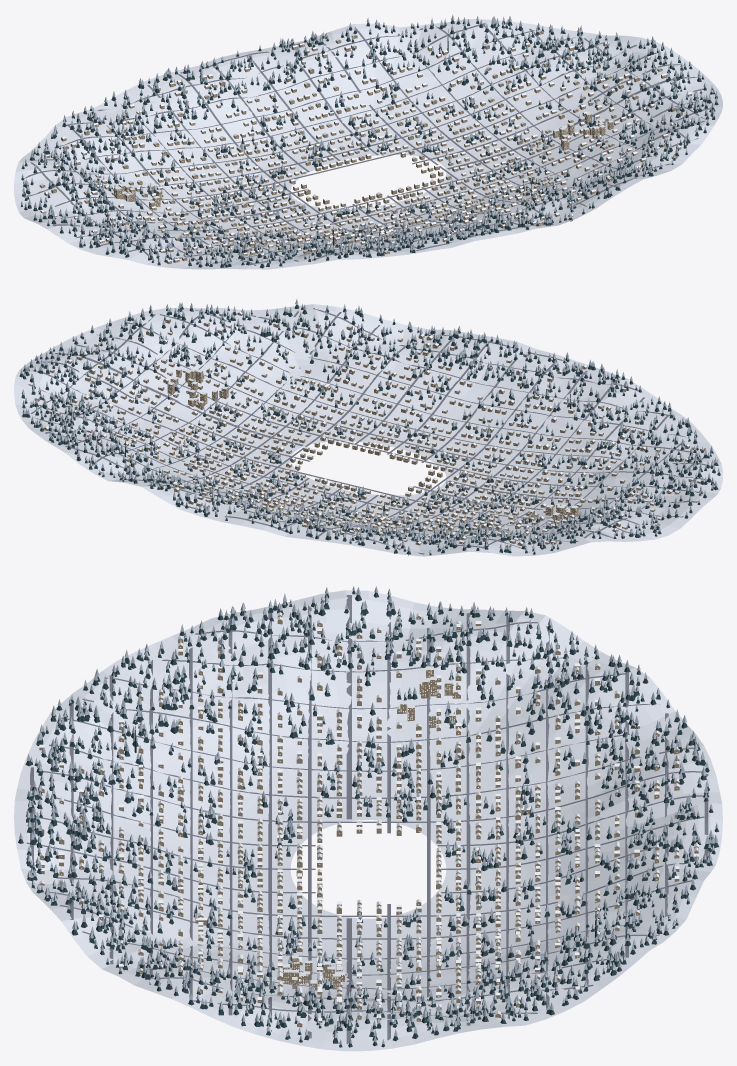
Rendered from town.fbx.
3 views of the same model, one above another, from view 1: azimuth 30°, elevation 25°; view 2: azimuth 150°, elevation 25°; view 3: azimuth 270°, elevation 25° (orthographic). The views are drawn at different scales.
Visible parts, largest first — view 1: Town_S5_Ground, Town_S6_Ground, Town_S4_Ground, Town_S7_Ground, Town_S3_Ground, Town_S0_Ground, Town_S2_Ground, Town_S1_Ground, Town_S4_TreeSnow, Town_S4_TreeDark, Town_S3_Wall, Town_S6_TreeSnow (+36 smaller); view 2: Town_S2_Ground, Town_S1_Ground, Town_S3_Ground, Town_S0_Ground, Town_S4_Ground, Town_S5_Ground, Town_S7_Ground, Town_S6_Ground, Town_S3_Wall, Town_S2_TreeDark, Town_S2_TreeSnow, Town_S1_TreeDark (+36 smaller); view 3: Town_S0_Ground, Town_S7_Ground, Town_S1_Ground, Town_S6_Ground, Town_S5_Ground, Town_S2_Ground, Town_S4_Ground, Town_S3_Ground, Town_S1_TreeSnow, Town_S7_TreeSnow, Town_S0_TreeSnow, Town_S6_TreeSnow (+36 smaller).
Part boxes in pixels (x1=…): Town_S5_Ground: x1=241, y1=19, x2=511, y2=160; Town_S6_Ground: x1=44, y1=53, x2=338, y2=179; Town_S4_Ground: x1=400, y1=21, x2=698, y2=163; Town_S7_Ground: x1=14, y1=137, x2=296, y2=223; Town_S3_Ground: x1=440, y1=70, x2=722, y2=184; Town_S0_Ground: x1=38, y1=199, x2=336, y2=269; Town_S2_Ground: x1=398, y1=153, x2=691, y2=237; Town_S1_Ground: x1=225, y1=202, x2=495, y2=269; Town_S4_TreeSnow: x1=422, y1=16, x2=691, y2=154; Town_S4_TreeDark: x1=422, y1=21, x2=692, y2=155; Town_S3_Wall: x1=421, y1=75, x2=691, y2=185; Town_S6_TreeSnow: x1=54, y1=50, x2=324, y2=174; Town_S2_Ground: x1=225, y1=304, x2=495, y2=447; Town_S1_Ground: x1=397, y1=337, x2=691, y2=466; Town_S3_Ground: x1=38, y1=307, x2=336, y2=450; Town_S0_Ground: x1=440, y1=423, x2=722, y2=510; Town_S4_Ground: x1=14, y1=357, x2=296, y2=470; Town_S5_Ground: x1=45, y1=440, x2=338, y2=525; Town_S7_Ground: x1=400, y1=486, x2=698, y2=556; Town_S6_Ground: x1=241, y1=489, x2=511, y2=556; Town_S3_Wall: x1=76, y1=313, x2=341, y2=455; Town_S2_TreeDark: x1=227, y1=305, x2=486, y2=437; Town_S2_TreeSnow: x1=227, y1=299, x2=486, y2=433; Town_S1_TreeDark: x1=413, y1=339, x2=684, y2=465; Town_S0_Ground: x1=118, y1=590, x2=368, y2=834; Town_S7_Ground: x1=368, y1=591, x2=617, y2=834; Town_S1_Ground: x1=14, y1=660, x2=312, y2=868; Town_S6_Ground: x1=424, y1=662, x2=722, y2=868; Town_S5_Ground: x1=424, y1=817, x2=722, y2=976; Town_S2_Ground: x1=14, y1=816, x2=312, y2=975; Town_S4_Ground: x1=368, y1=904, x2=618, y2=1050; Town_S3_Ground: x1=118, y1=904, x2=368, y2=1051; Town_S1_TreeSnow: x1=26, y1=657, x2=294, y2=861; Town_S7_TreeSnow: x1=366, y1=586, x2=612, y2=817; Town_S0_TreeSnow: x1=121, y1=586, x2=370, y2=813; Town_S6_TreeSnow: x1=443, y1=655, x2=712, y2=864.
Size of the model in its own units: 4020 by 331 by 2680.
